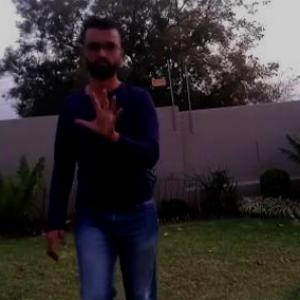follow_hand: (73, 84, 126, 140)
